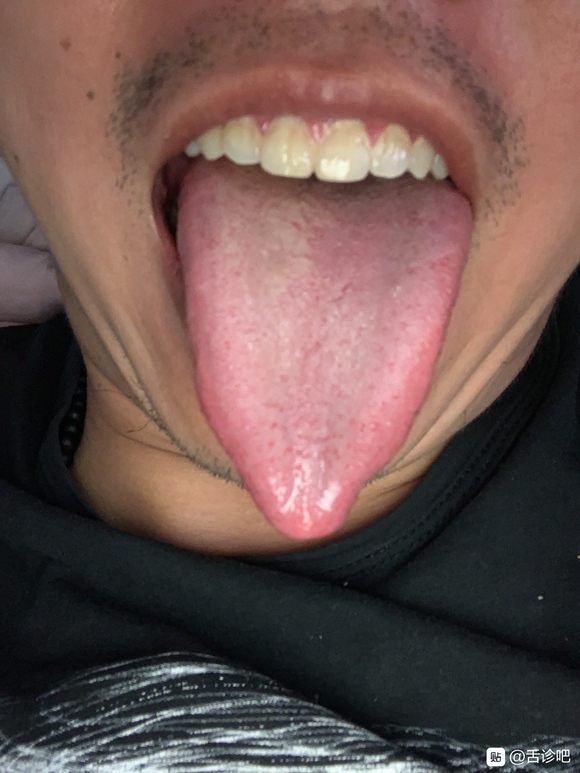baitaishe: (176, 154, 473, 539)
hongdianshe: (357, 420, 368, 434), (268, 420, 278, 430)
hongshe: (176, 154, 473, 539)
